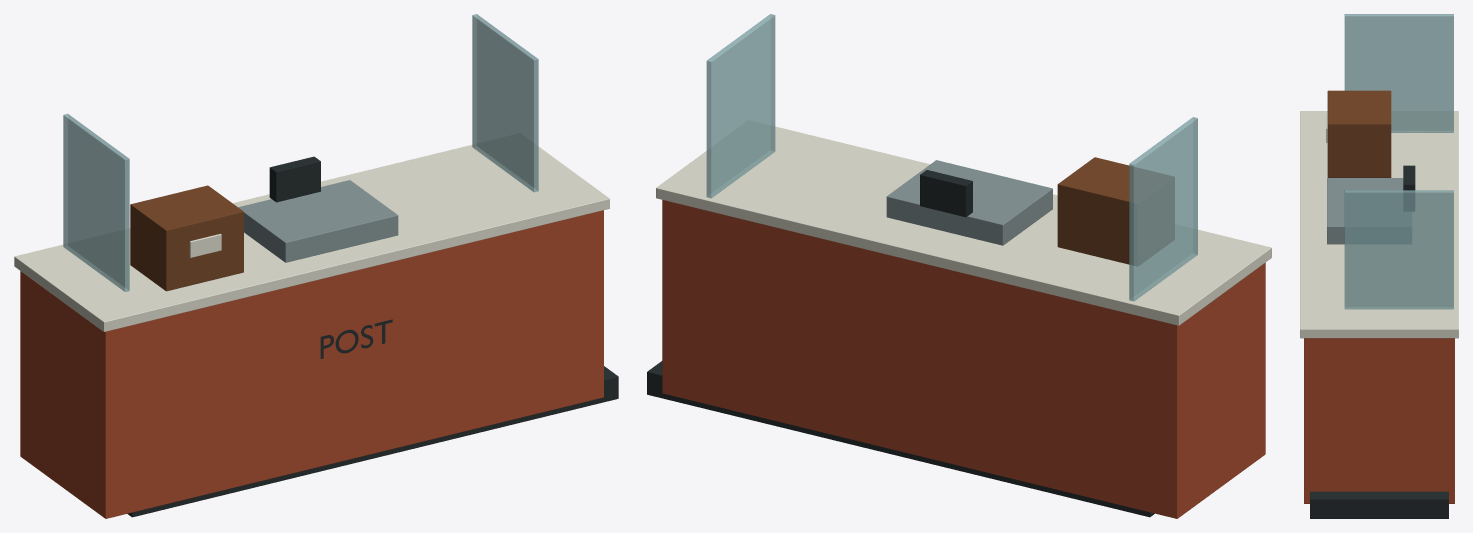
File: source-edit.glb
3 views of the same model, side by side, from view 1: azimuth 30°, elevation 25°; view 2: azimuth 150°, elevation 25°; view 3: azimuth 270°, elevation 25° (orthographic). The views are drawn at different scales.
Visible parts, largest first — view 1: Counter_Body, Worktop, Parcel, Divider.001, Divider, Parcel_Scale, Counter_Base, Scale_Display, Editable_Label_POST; view 2: Counter_Body, Worktop, Parcel, Divider.001, Divider, Parcel_Scale, Counter_Base, Scale_Display; view 3: Worktop, Counter_Body, Divider.001, Divider, Parcel, Parcel_Scale, Counter_Base, Scale_Display.
Part boxes in pixels (x1,y1,x2,y2): Counter_Body: (20,210,603,518); Worktop: (14,134,609,331); Parcel: (130,185,243,291); Divider.001: (472,14,538,192); Divider: (63,113,129,291); Parcel_Scale: (238,180,398,262); Counter_Base: (127,366,618,517); Scale_Display: (269,156,320,202); Editable_Label_POST: (320,319,392,358); Counter_Body: (662,200,1265,518); Worktop: (656,121,1271,325); Parcel: (1057,157,1174,265); Divider.001: (706,14,775,198); Divider: (1129,117,1197,301); Parcel_Scale: (886,160,1052,245); Counter_Base: (647,361,1154,517); Scale_Display: (920,170,972,217); Worktop: (1300,111,1458,338); Counter_Body: (1304,338,1454,503); Divider.001: (1344,190,1453,309); Divider: (1344,14,1453,132); Parcel: (1327,90,1391,177); Parcel_Scale: (1327,178,1411,244); Counter_Base: (1310,491,1448,518); Scale_Display: (1403,165,1415,210).
Size of the model in its own units: 2.67 by 1.67 by 0.8.
